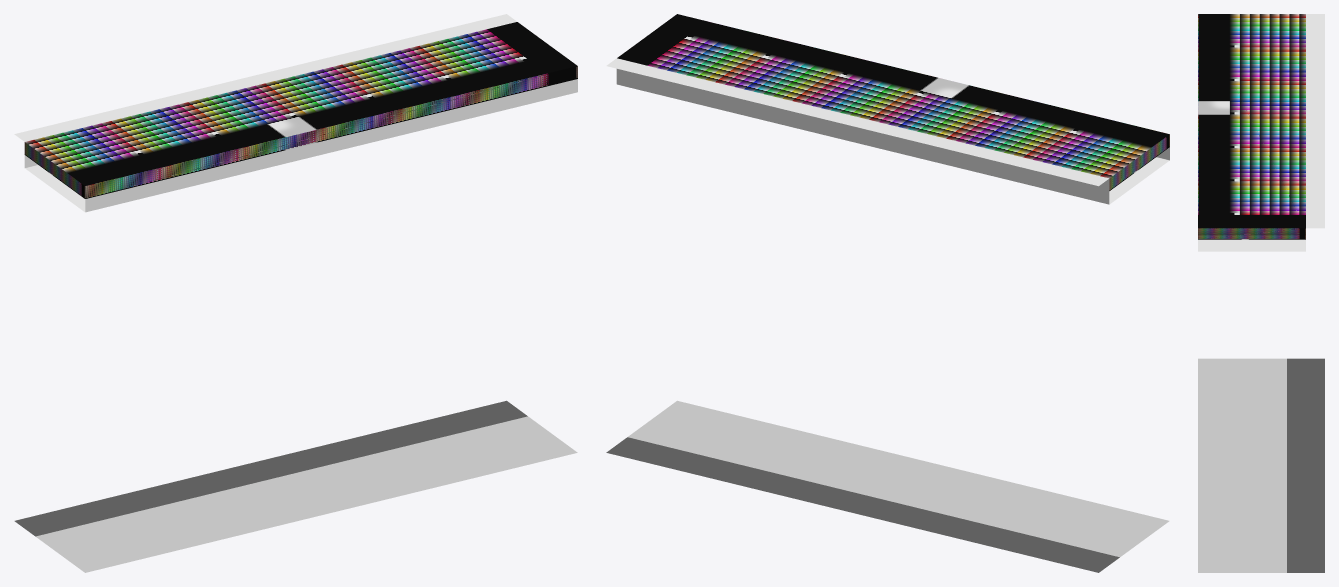
The model's file is ground_line_1_4.fbx.
The picture shows the model from 3 angles, left to right: view 1: azimuth 30°, elevation 25°; view 2: azimuth 150°, elevation 25°; view 3: azimuth 270°, elevation 25°; orthographic projection. The views are drawn at different scales.
Visible parts, largest first — view 1: shadowsOnly, ground_line_1_4, ceiling_line_1_4; view 2: ground_line_1_4, shadowsOnly, ceiling_line_1_4; view 3: ground_line_1_4, shadowsOnly, ceiling_line_1_4.
Part boxes in pixels (left/top/right/bottom): shadowsOnly: left=24, top=22, right=577, bottom=198; ground_line_1_4: left=14, top=400, right=577, bottom=572; ceiling_line_1_4: left=14, top=14, right=577, bottom=212; ground_line_1_4: left=606, top=400, right=1169, bottom=572; shadowsOnly: left=616, top=14, right=1169, bottom=190; ceiling_line_1_4: left=606, top=58, right=1169, bottom=204; ground_line_1_4: left=1198, top=358, right=1324, bottom=572; shadowsOnly: left=1198, top=14, right=1305, bottom=239; ceiling_line_1_4: left=1198, top=14, right=1324, bottom=251.
Size of what is drawn, in the model's own units: 400 by 300 by 100.
